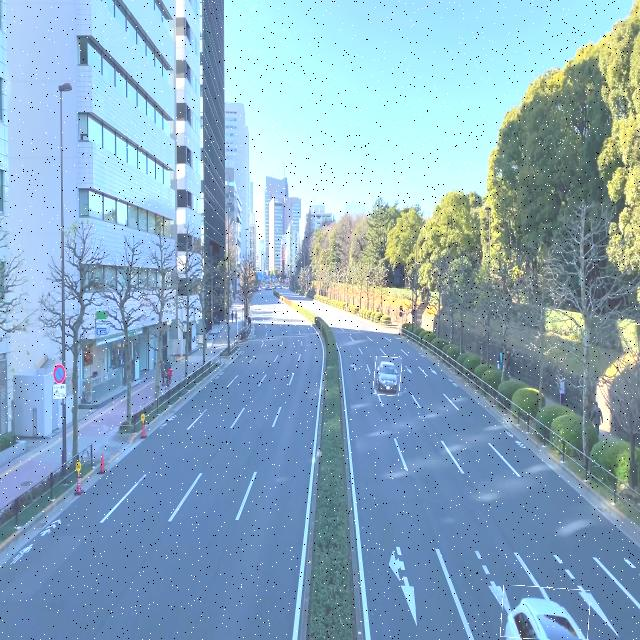Car: (501, 586, 589, 640), (374, 356, 402, 396)
